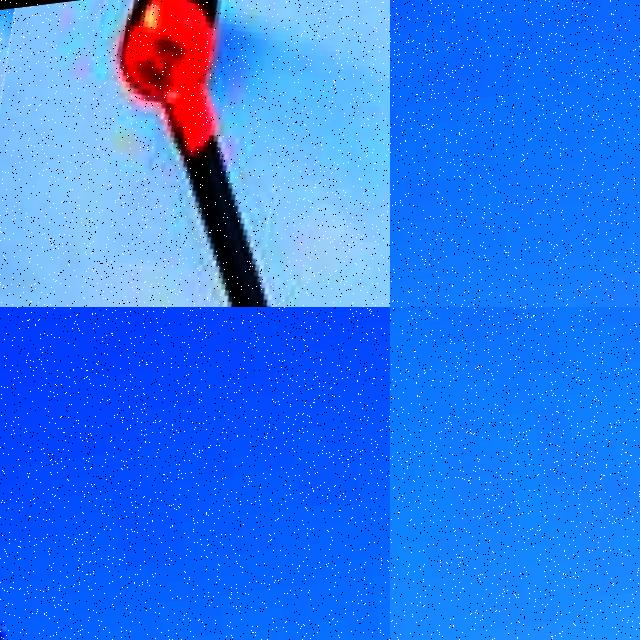drone: (0, 0, 390, 307)
